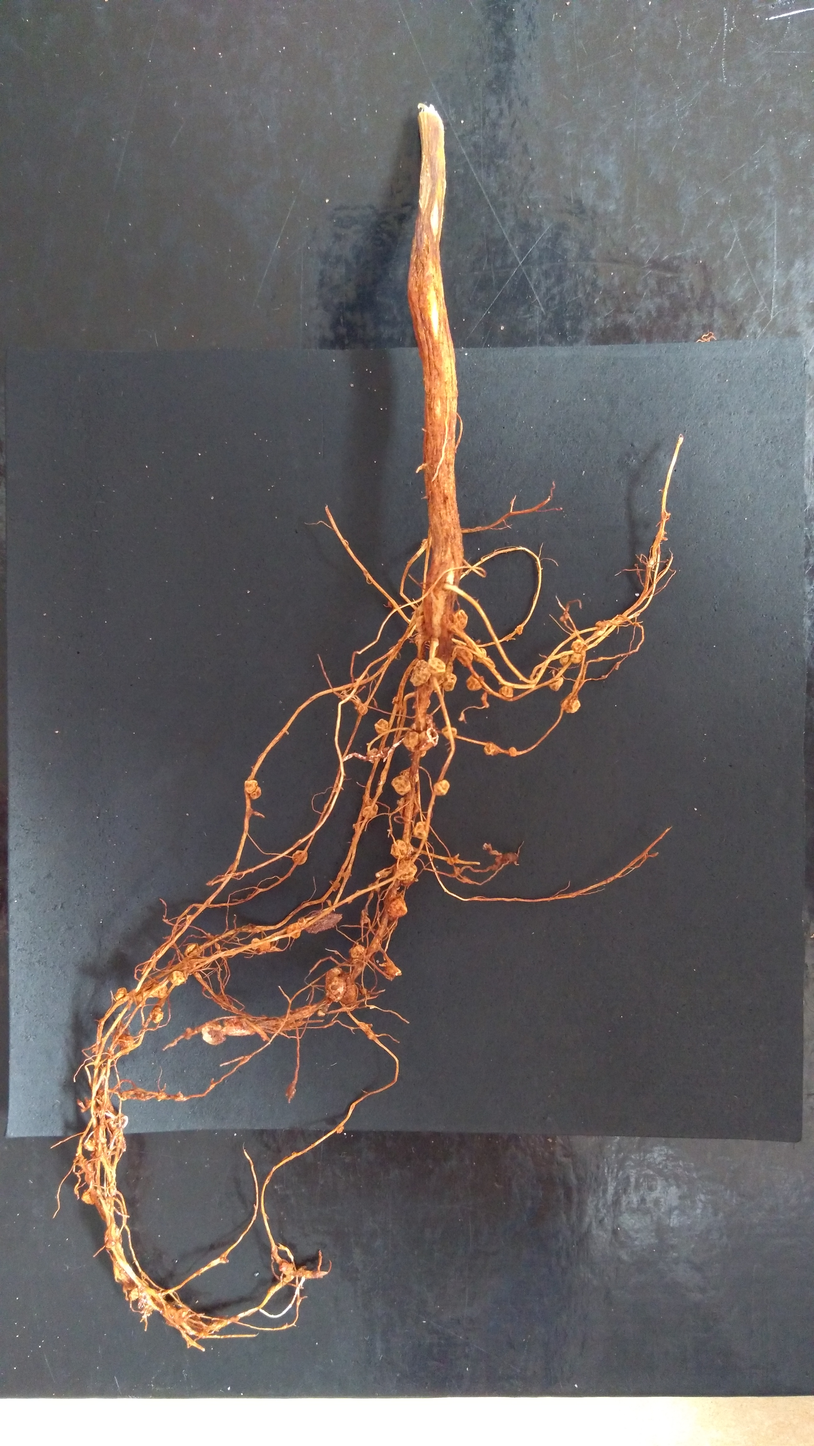nodule: (323, 966, 347, 1005), (340, 971, 360, 1009), (408, 658, 432, 688), (135, 983, 169, 1003), (416, 728, 438, 757), (397, 794, 422, 819), (201, 1023, 227, 1045), (386, 895, 409, 919), (390, 774, 412, 797), (392, 860, 418, 879), (286, 917, 307, 940), (400, 730, 420, 753), (411, 715, 435, 734), (451, 607, 469, 632), (426, 656, 447, 677), (456, 645, 473, 670), (389, 838, 408, 860), (464, 673, 485, 692), (561, 697, 582, 715), (432, 778, 451, 797), (168, 970, 189, 987), (183, 942, 202, 960), (383, 960, 401, 979), (412, 820, 429, 840), (361, 802, 379, 820), (365, 747, 383, 765), (442, 672, 457, 693), (291, 849, 309, 866), (373, 717, 389, 736), (80, 1188, 97, 1205), (441, 725, 458, 741), (347, 944, 365, 959), (548, 676, 564, 692), (112, 986, 128, 1002), (151, 1006, 165, 1024), (483, 741, 498, 757), (243, 778, 258, 794), (410, 601, 425, 617), (498, 685, 515, 699), (473, 645, 486, 663), (414, 633, 429, 648), (376, 746, 393, 759), (414, 615, 426, 633), (570, 638, 584, 653), (248, 785, 262, 800), (121, 1034, 135, 1049), (83, 1138, 97, 1153), (257, 941, 273, 953), (356, 702, 369, 716), (570, 652, 583, 665), (397, 766, 411, 778), (558, 653, 570, 666), (250, 937, 261, 951), (508, 745, 518, 758), (514, 624, 524, 636)
